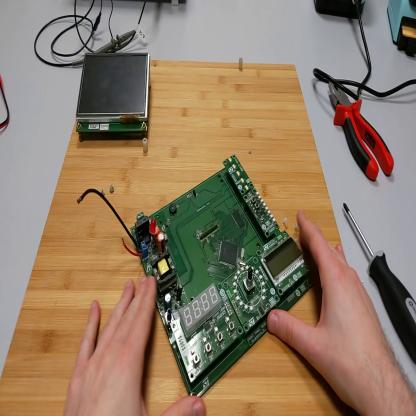hand: (267, 210, 393, 409), (65, 279, 207, 415)
low voltage board: (77, 156, 314, 399)
oscilloscope probe tip: (73, 25, 132, 66)
pliers: (330, 79, 395, 182)
screwdriver-: (344, 203, 416, 366)
welder base: (387, 1, 416, 59)
welder station: (314, 2, 366, 24)
working area: (1, 61, 350, 415)
